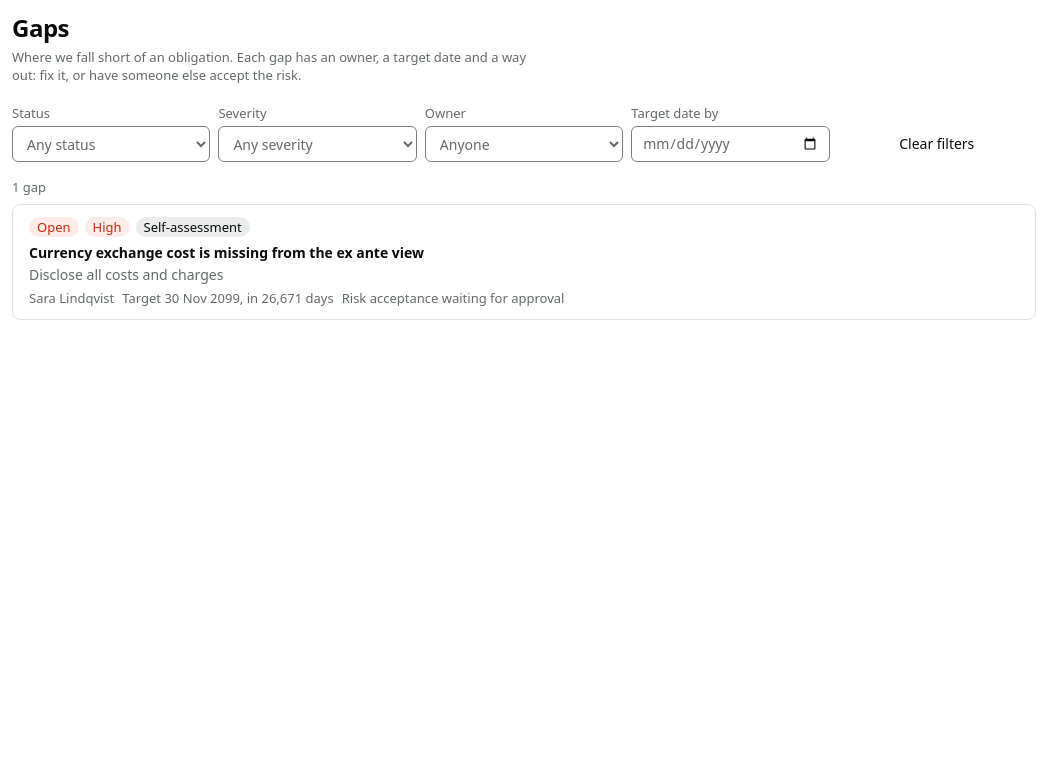
Test: the way out › lets a second person approve, and renders a four-eyes refusal from its code
Later steps or results of the test are not shown.
Click the button "Currency exchange cost is missing from the ex ante view". click: [227, 253]
box: [29, 243, 424, 263]
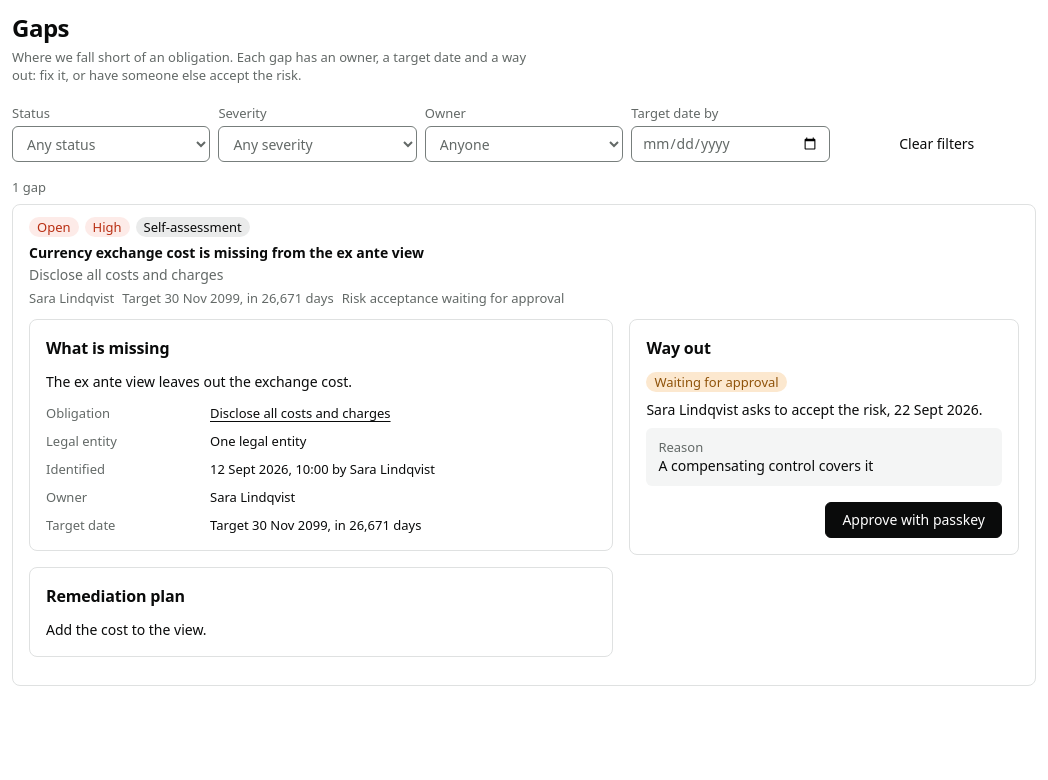
Now the element that starts with "What is missing" is shown, box [29, 319, 1019, 673]
Now the text "Sara Lindqvist asks to accept the risk, 22 Sept 2026." is shown, box [646, 400, 982, 420]
